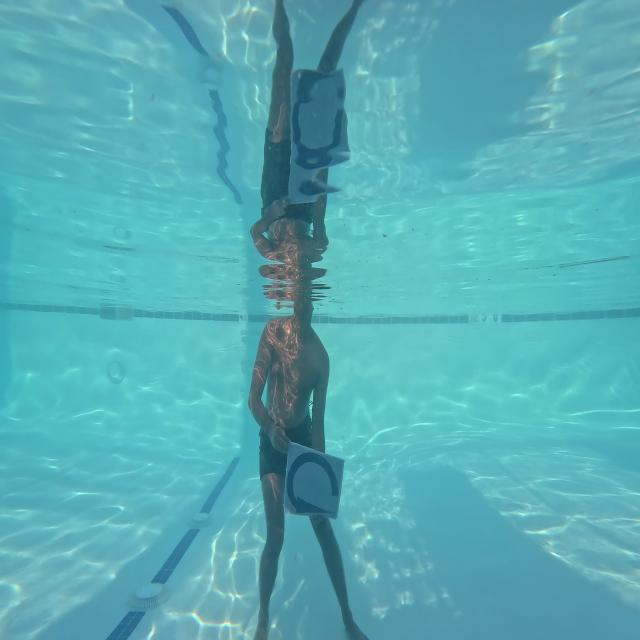blue_side: (283, 434, 343, 526)
